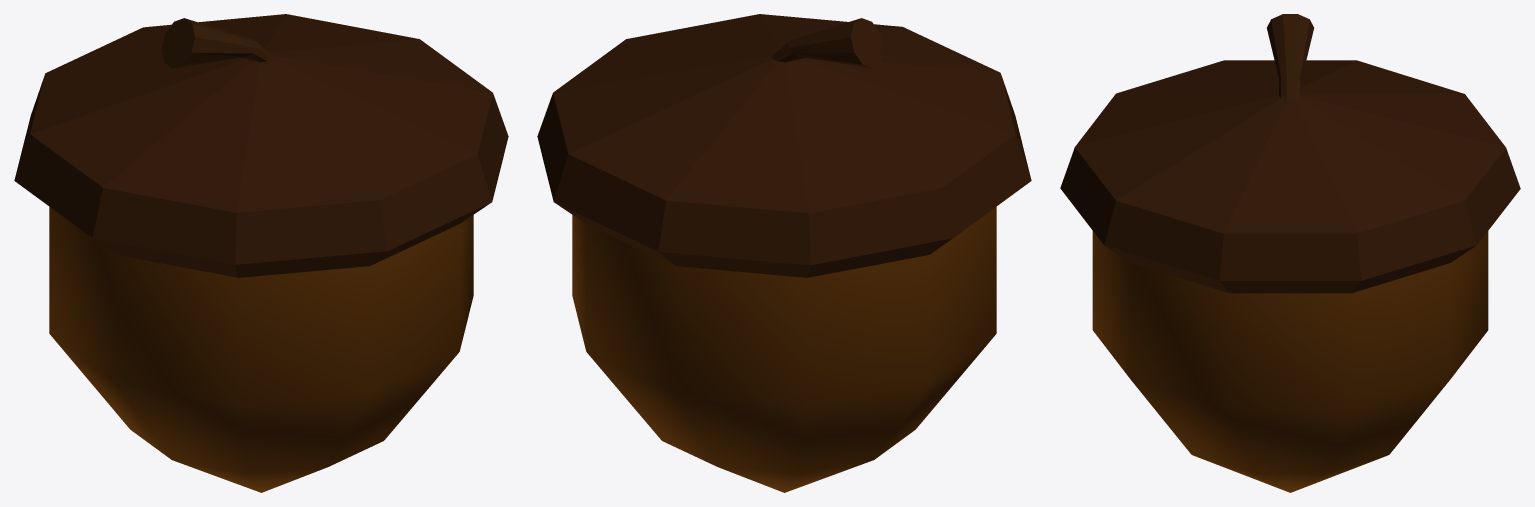
Rendered from acorn.fbx.
3 renders of one model, left to right at view 1: azimuth 30°, elevation 25°; view 2: azimuth 150°, elevation 25°; view 3: azimuth 270°, elevation 25°, orthographic. The views are drawn at different scales.
Parts seen in each view (by area): view 1: Sphere001; view 2: Sphere001; view 3: Sphere001.
Part boxes in pixels (<box>): Sphere001: <box>14,14,508,492</box>; Sphere001: <box>537,14,1031,492</box>; Sphere001: <box>1060,14,1520,492</box>.
Size of the model in its own units: 1.84 by 2.07 by 1.93.
